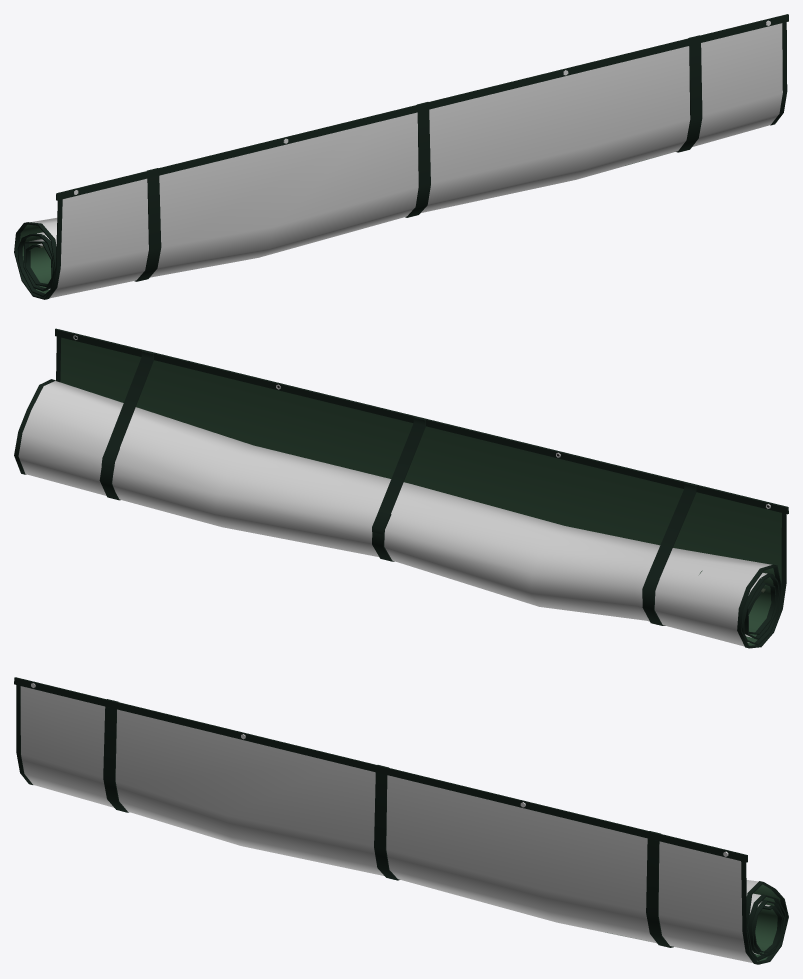
File: SM_H_Tide_Dock_Fabric_01d_ATLAS.fbx
The picture shows the model from 3 angles, top to bottom: view 1: azimuth 30°, elevation 25°; view 2: azimuth 150°, elevation 25°; view 3: azimuth 330°, elevation 25°; orthographic projection.
Parts seen in each view (by area): view 1: SM_H_Tide_Dock_Fabric_01d_ATLAS; view 2: SM_H_Tide_Dock_Fabric_01d_ATLAS; view 3: SM_H_Tide_Dock_Fabric_01d_ATLAS.
Boxes of the visible parts, box(x1,y1,x2,y2) form: SM_H_Tide_Dock_Fabric_01d_ATLAS: box(14, 14, 788, 299); SM_H_Tide_Dock_Fabric_01d_ATLAS: box(14, 328, 788, 648); SM_H_Tide_Dock_Fabric_01d_ATLAS: box(14, 677, 788, 964).
Size of the model in its own units: 464 by 51.58 by 79.8.
